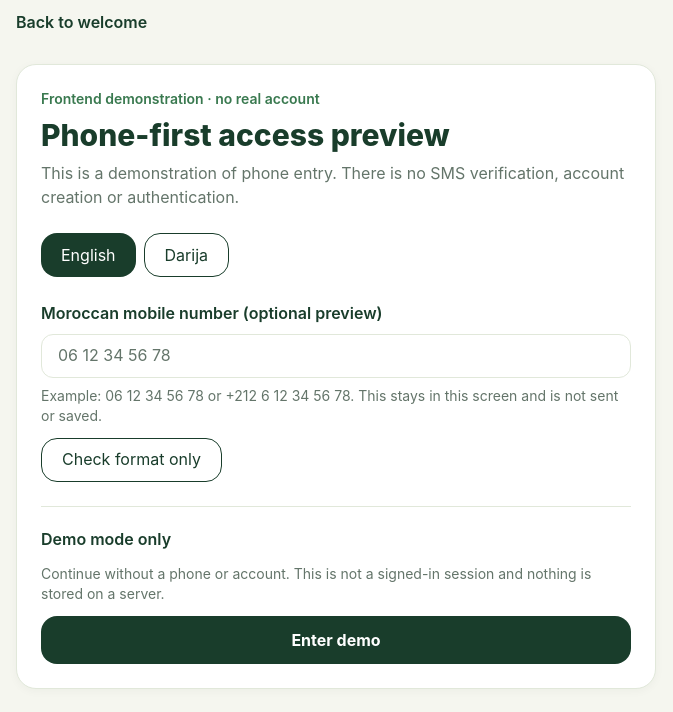
Test: M1 access preview › checks format without implying a sent SMS
Type "0612345678" into the field labelled "Moroccan mobile number (optional preview)" at (336, 356), box x1=41 y1=334 x2=631 y2=378
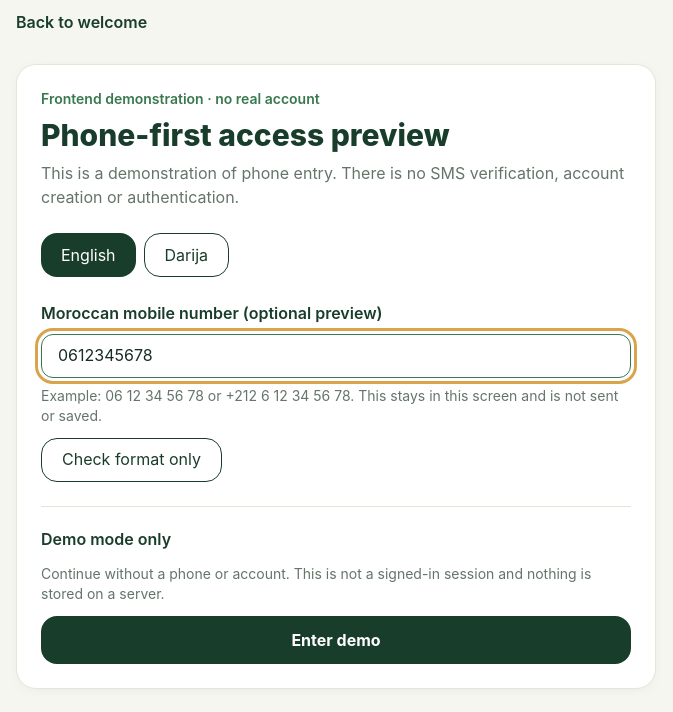
Click the button "Check format only" at (132, 460), box x1=41 y1=438 x2=222 y2=482
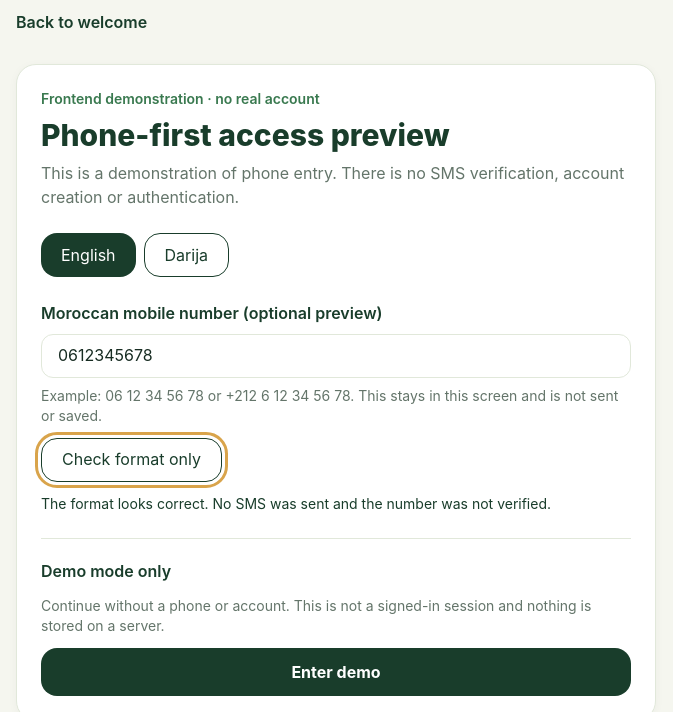
Now the message shows "No SMS was sent", box x1=41 y1=495 x2=551 y2=512
